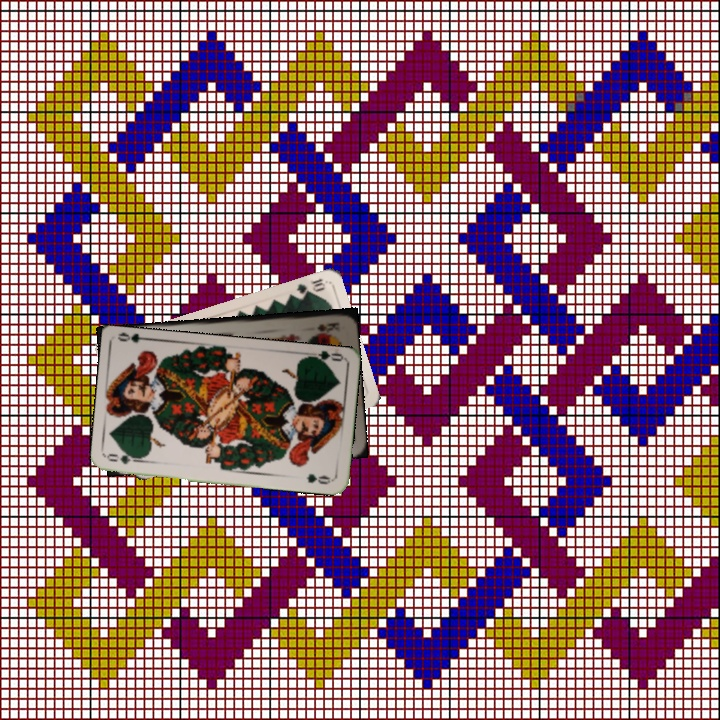G10: (292, 274, 327, 299)
GO: (303, 348, 344, 368), (105, 450, 146, 467)
SK: (313, 318, 342, 334)
